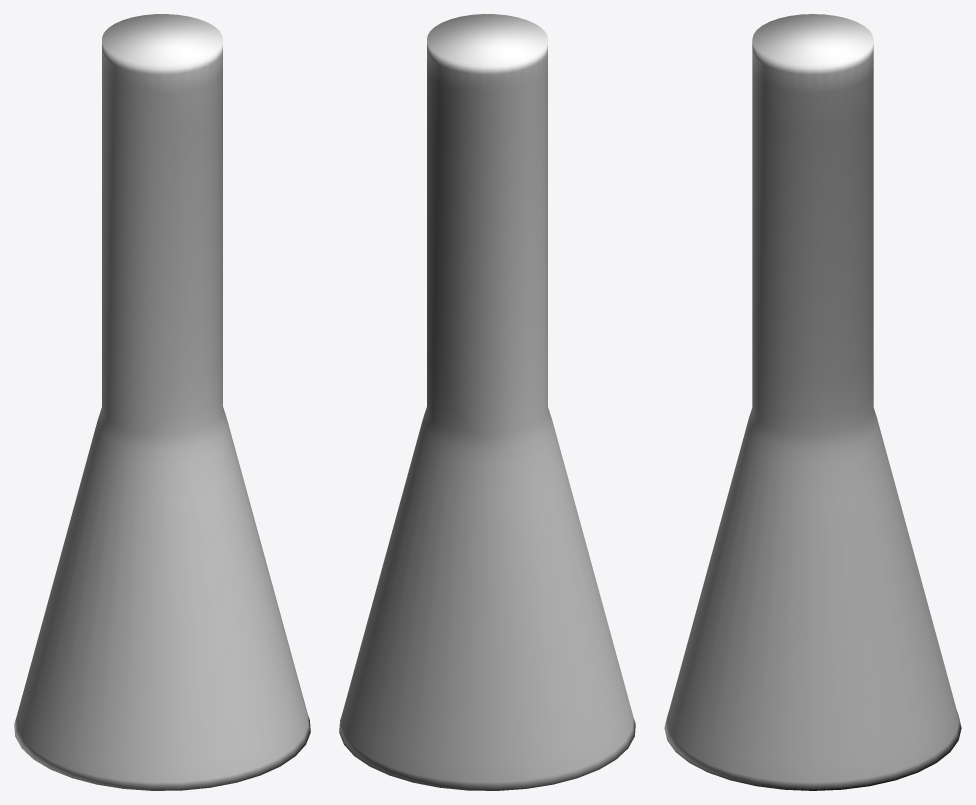
The model's file is led_flashlight.fbx.
The picture shows the model from 3 angles, left to right: view 1: azimuth 30°, elevation 25°; view 2: azimuth 150°, elevation 25°; view 3: azimuth 270°, elevation 25°; orthographic projection.
Parts seen in each view (by area): view 1: LED_FlashLight; view 2: LED_FlashLight; view 3: LED_FlashLight.
Boxes of the visible parts, x1=… form: LED_FlashLight: x1=14, y1=14, x2=310, y2=790; LED_FlashLight: x1=339, y1=14, x2=635, y2=790; LED_FlashLight: x1=664, y1=14, x2=961, y2=790.
Bounding box in the file's own units: 4000 × 10225 × 4000.
1 material, 1 textured.
